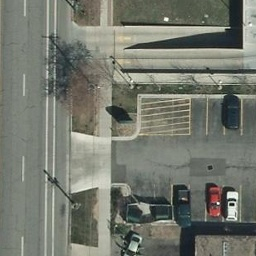car: (172, 188, 193, 226), (222, 189, 241, 223), (206, 185, 223, 218), (223, 98, 241, 129)
